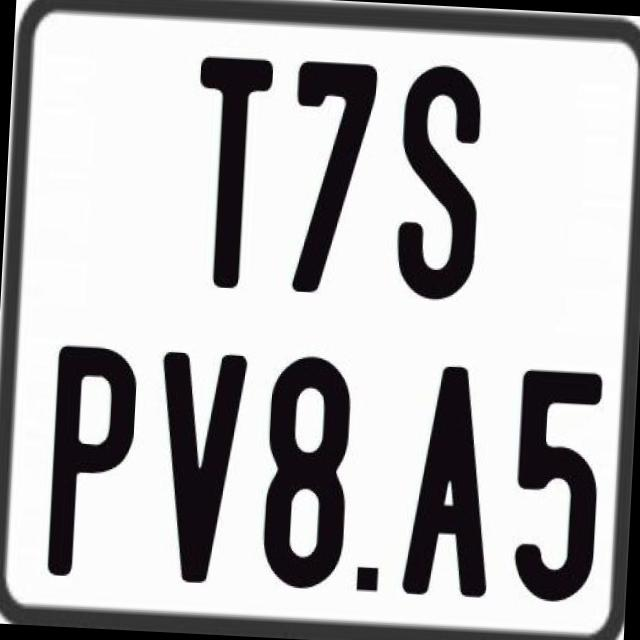5: (510, 368, 604, 606)
7: (284, 61, 380, 297)
8: (256, 350, 348, 590)
A: (401, 360, 504, 600)
P: (45, 341, 136, 582)
S: (392, 62, 482, 304)
T: (188, 54, 279, 298)
V: (150, 352, 246, 586)
